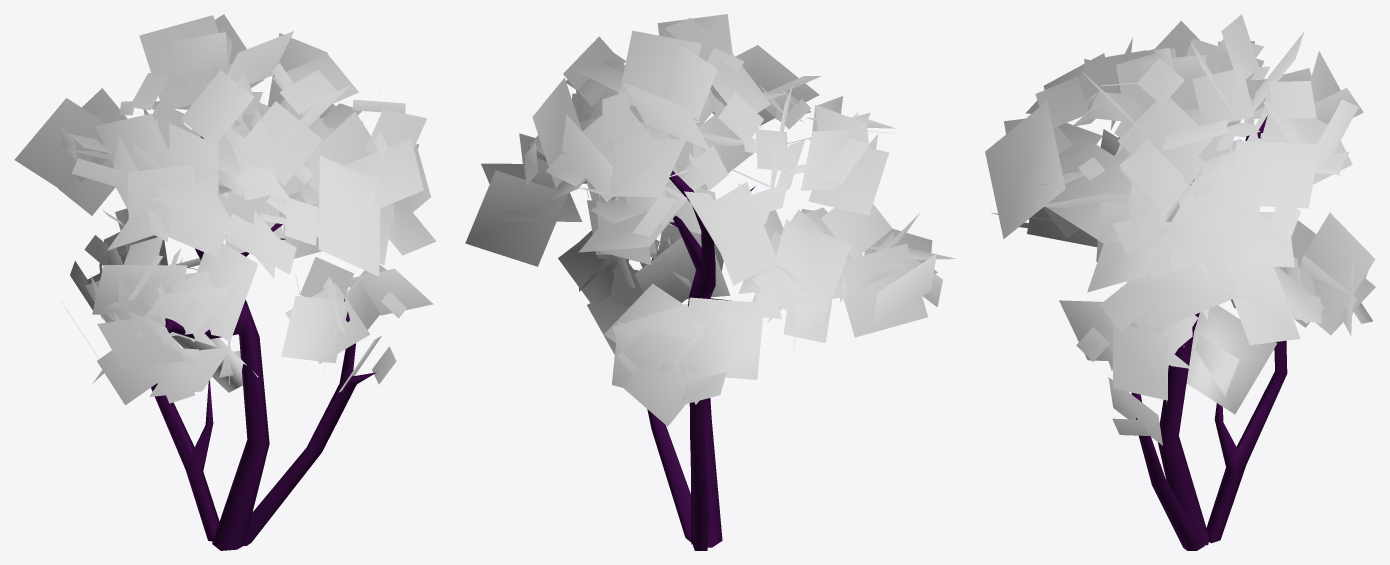
The model's file is m_TreeSmall1_LOD2.fbx.
3 renders of one model, left to right at view 1: azimuth 30°, elevation 25°; view 2: azimuth 150°, elevation 25°; view 3: azimuth 270°, elevation 25°, orthographic. The views are drawn at different scales.
Visible parts, largest first — view 1: TreeSmall1_LOD2; view 2: TreeSmall1_LOD2; view 3: TreeSmall1_LOD2.
Part boxes in pixels (x1,y1,x2,y2): TreeSmall1_LOD2: (14,14,436,550); TreeSmall1_LOD2: (465,14,955,550); TreeSmall1_LOD2: (985,14,1375,550).
Bounding box in the file's own units: 969 × 1148 × 790.
